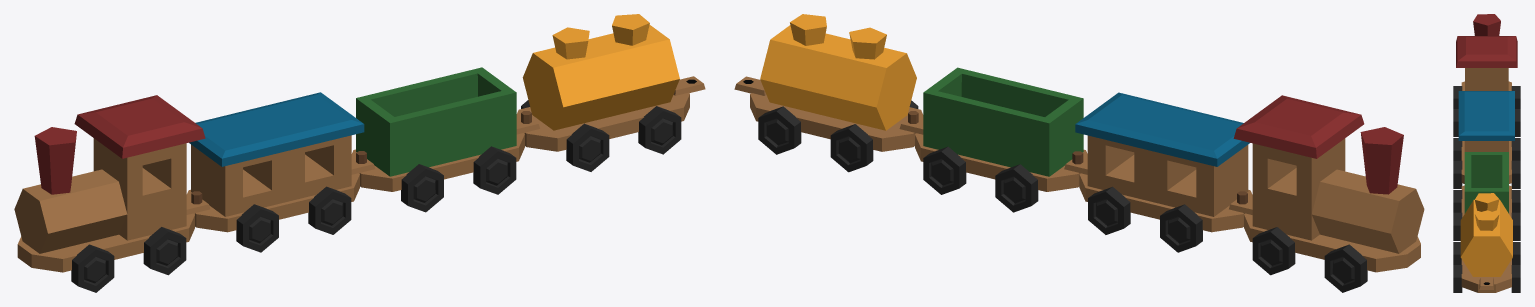
Rendered from toy-train.glb.
3 views of the same model, side by side, from view 1: azimuth 30°, elevation 25°; view 2: azimuth 150°, elevation 25°; view 3: azimuth 270°, elevation 25° (orthographic). The views are drawn at different scales.
Visible parts, largest first — view 1: toy_train_a, toy_train_b, toy_train_d, toy_train_c; view 2: toy_train_a, toy_train_b, toy_train_d, toy_train_c; view 3: toy_train_d, toy_train_b, toy_train_a, toy_train_c.
Boxes of the visible parts, x1,y1,x2,y2 form: toy_train_a: (14, 95, 210, 292); toy_train_b: (186, 92, 375, 252); toy_train_d: (516, 14, 705, 171); toy_train_c: (351, 67, 539, 212); toy_train_a: (1229, 95, 1424, 292); toy_train_b: (1064, 92, 1252, 252); toy_train_d: (734, 14, 923, 172); toy_train_c: (899, 67, 1087, 212); toy_train_d: (1453, 193, 1520, 292); toy_train_b: (1453, 91, 1520, 188); toy_train_a: (1453, 14, 1520, 136); toy_train_c: (1453, 152, 1520, 240).
Bounding box in the file's own units: 0.7496 × 0.1493 × 0.1.
1 material, 1 textured.
